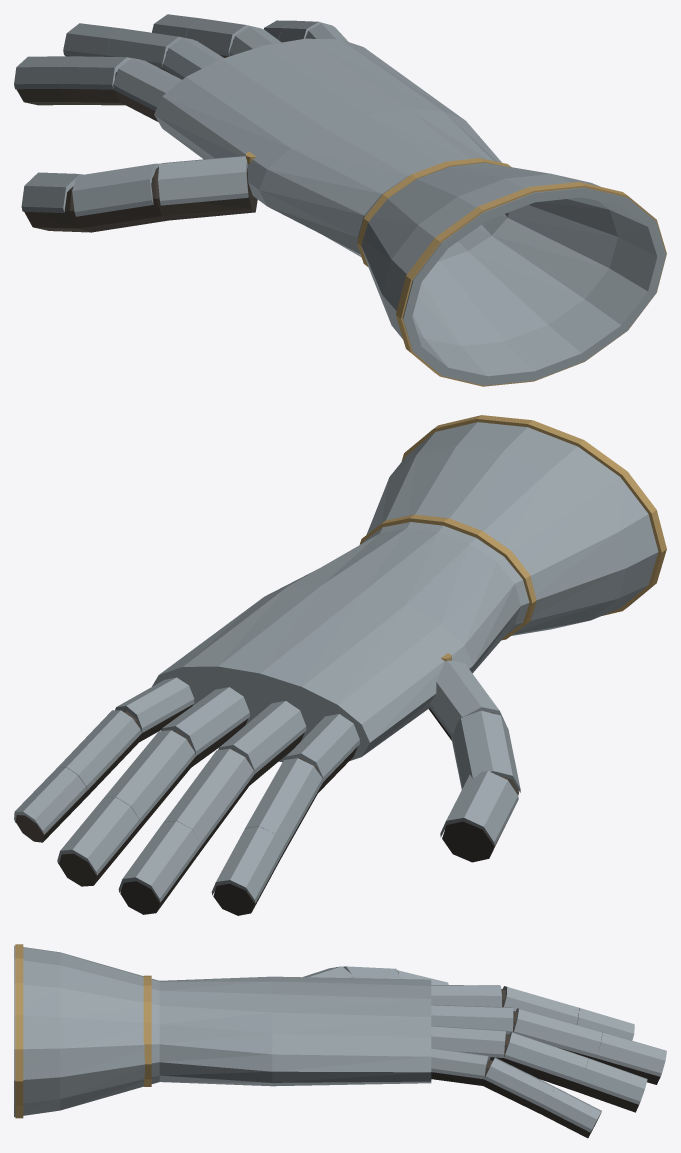
3 renders of one model, top to bottom at view 1: azimuth 30°, elevation 25°; view 2: azimuth 150°, elevation 25°; view 3: azimuth 270°, elevation 25°, orthographic. The views are drawn at different scales.
Parts seen in each view (by area): view 1: WholeFlaredOpenCuffAndPalmShell, ThumbWholeUnderFinger, ThumbDorsalPlate1, ThumbDorsalPlate2, WideCuffRim, IndexDorsalPlate1, IndexWholeUnderFinger, IndexDorsalPlate2, MiddleDorsalPlate2, ThumbDorsalPlate3, MiddleDorsalPlate1, MiddleDorsalPlate3 (+6 smaller); view 2: WholeFlaredOpenCuffAndPalmShell, MiddleDorsalPlate2, RingDorsalPlate2, ThumbDorsalPlate2, IndexDorsalPlate2, MiddleDorsalPlate3, RingDorsalPlate3, WideCuffRim, MiddleDorsalPlate1, ThumbDorsalPlate3, RingDorsalPlate1, LittleDorsalPlate2 (+11 smaller); view 3: WholeFlaredOpenCuffAndPalmShell, MiddleDorsalPlate2, RingDorsalPlate2, MiddleDorsalPlate1, RingDorsalPlate1, MiddleDorsalPlate3, RingDorsalPlate3, LittleDorsalPlate2, WideCuffRim, IndexDorsalPlate1, IndexDorsalPlate2, LittleDorsalPlate1 (+8 smaller).
Boxes of the visible parts, x1=… form: WholeFlaredOpenCuffAndPalmShell: x1=154, y1=38, x2=666, y2=385; ThumbWholeUnderFinger: x1=24, y1=167, x2=257, y2=232; ThumbDorsalPlate1: x1=158, y1=156, x2=248, y2=205; ThumbDorsalPlate2: x1=72, y1=163, x2=159, y2=216; WideCuffRim: x1=396, y1=182, x2=666, y2=386; IndexDorsalPlate1: x1=113, y1=58, x2=181, y2=111; IndexWholeUnderFinger: x1=16, y1=72, x2=157, y2=121; IndexDorsalPlate2: x1=57, y1=56, x2=140, y2=89; MiddleDorsalPlate2: x1=106, y1=28, x2=193, y2=68; ThumbDorsalPlate3: x1=21, y1=172, x2=83, y2=212; MiddleDorsalPlate1: x1=163, y1=38, x2=223, y2=79; MiddleDorsalPlate3: x1=63, y1=23, x2=122, y2=56; WholeFlaredOpenCuffAndPalmShell: x1=152, y1=422, x2=658, y2=762; MiddleDorsalPlate2: x1=163, y1=748, x2=254, y2=845; RingDorsalPlate2: x1=104, y1=730, x2=195, y2=822; ThumbDorsalPlate2: x1=451, y1=710, x2=520, y2=792; IndexDorsalPlate2: x1=245, y1=758, x2=322, y2=849; MiddleDorsalPlate3: x1=118, y1=821, x2=201, y2=902; RingDorsalPlate3: x1=57, y1=797, x2=140, y2=875; WideCuffRim: x1=401, y1=415, x2=666, y2=615; MiddleDorsalPlate1: x1=218, y1=701, x2=306, y2=774; ThumbDorsalPlate3: x1=440, y1=771, x2=518, y2=845; RingDorsalPlate1: x1=161, y1=687, x2=249, y2=755; LittleDorsalPlate2: x1=58, y1=710, x2=141, y2=789; WholeFlaredOpenCuffAndPalmShell: x1=14, y1=945, x2=431, y2=1116; MiddleDorsalPlate2: x1=513, y1=1008, x2=602, y2=1057; RingDorsalPlate2: x1=504, y1=1032, x2=588, y2=1083; MiddleDorsalPlate1: x1=431, y1=1004, x2=513, y2=1034; RingDorsalPlate1: x1=431, y1=1025, x2=506, y2=1057; MiddleDorsalPlate3: x1=596, y1=1032, x2=666, y2=1076; RingDorsalPlate3: x1=580, y1=1058, x2=647, y2=1104; LittleDorsalPlate2: x1=484, y1=1057, x2=554, y2=1108; WideCuffRim: x1=15, y1=944, x2=23, y2=1118; IndexDorsalPlate1: x1=431, y1=985, x2=501, y2=1006; IndexDorsalPlate2: x1=502, y1=986, x2=578, y2=1024; LittleDorsalPlate1: x1=431, y1=1048, x2=490, y2=1079.
Bounding box in the file's own units: 0.252 × 0.122 × 0.493.
